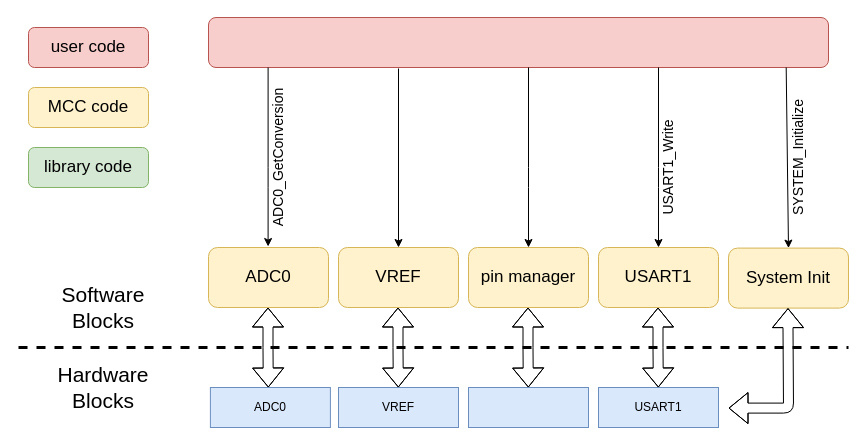
Some shapes in this 868 by 445 pixel diagram are drawn without their labels. The box of each missing label's shape, as (x1, y1, x2, y2) in pixels:
GPIO: (468, 386, 588, 428)
main app: (208, 16, 828, 68)
